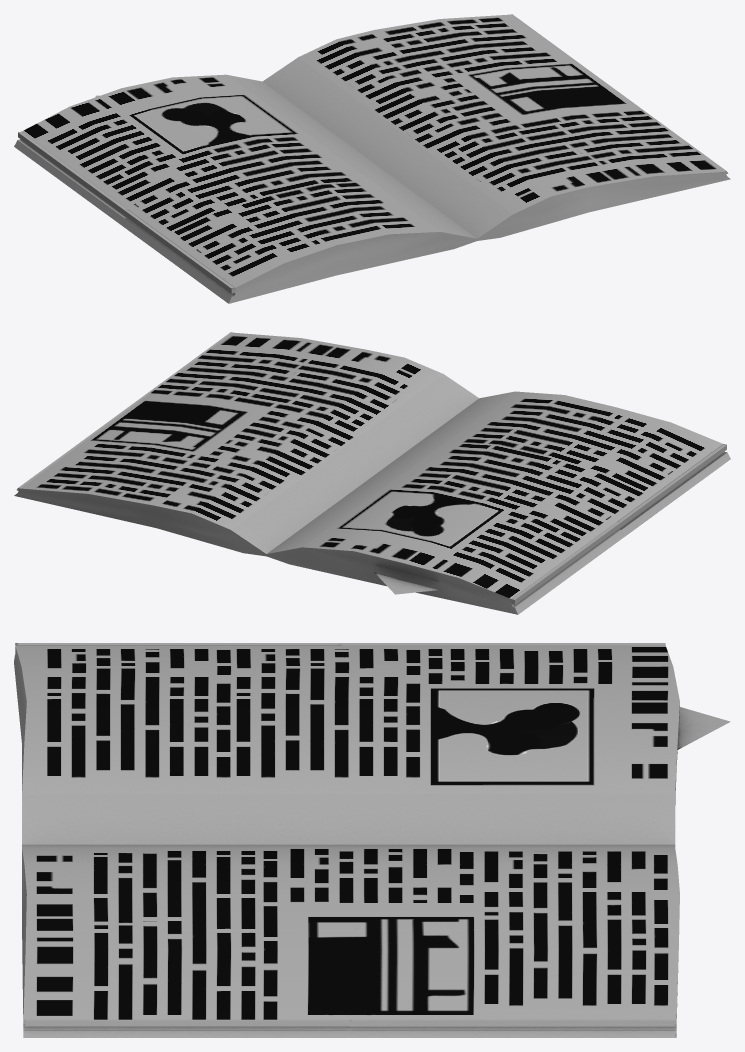
File: Newspaper.fbx
3 views of the same model, one above another, from view 1: azimuth 30°, elevation 25°; view 2: azimuth 150°, elevation 25°; view 3: azimuth 270°, elevation 25° (orthographic). The views are drawn at different scales.
Parts seen in each view (by area): view 1: Cube.002; view 2: Cube.002; view 3: Cube.002.
Part boxes in pixels (x1,y1,x2,y2): Cube.002: [14, 14, 730, 303]; Cube.002: [14, 332, 730, 614]; Cube.002: [14, 643, 730, 1037].
Bounding box in the file's own units: 272 × 15.89 × 220.
